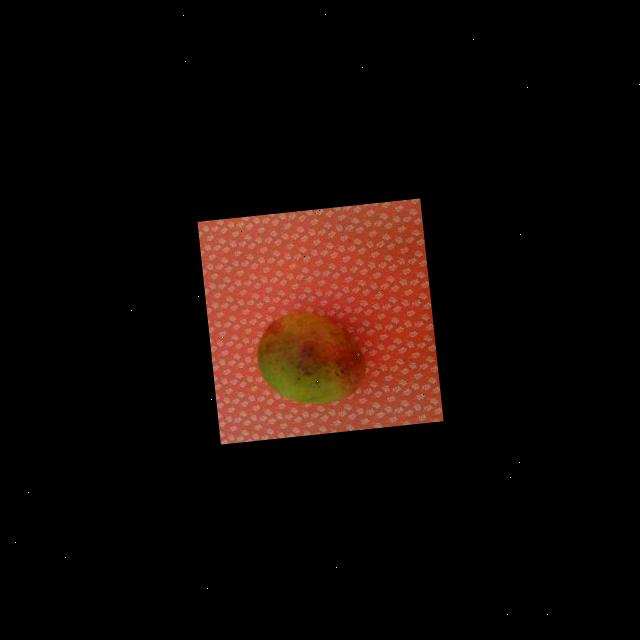Mango: (252, 305, 368, 410)
